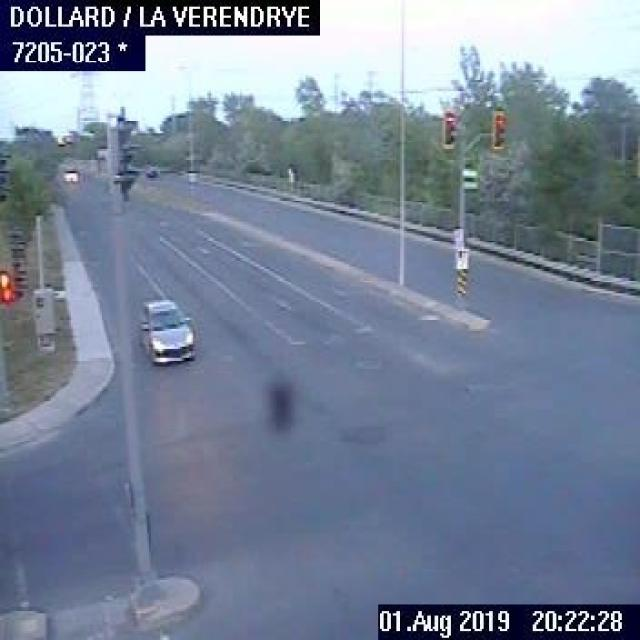vehicle: (138, 296, 195, 371), (60, 164, 78, 182), (143, 164, 158, 176)
